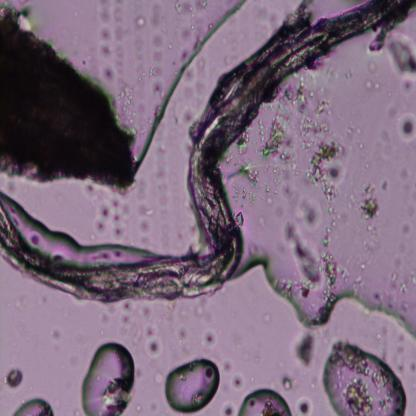Air bubble: (250, 246, 416, 340), (322, 336, 408, 416), (80, 337, 136, 415), (156, 353, 222, 414), (235, 384, 293, 413), (8, 398, 60, 416), (6, 366, 25, 391)
Background material: (0, 0, 137, 192), (260, 82, 310, 158), (283, 222, 324, 286), (310, 140, 345, 206), (87, 196, 131, 242), (92, 25, 120, 85), (175, 0, 203, 55), (258, 160, 290, 194), (134, 199, 156, 240), (293, 333, 316, 372), (327, 254, 344, 306), (112, 293, 136, 328), (225, 159, 260, 182), (297, 195, 322, 227), (321, 201, 338, 247), (144, 321, 162, 361), (397, 109, 416, 145), (360, 56, 379, 88), (152, 37, 166, 79), (362, 195, 380, 222), (202, 325, 218, 352), (219, 397, 238, 416), (293, 395, 314, 411), (174, 326, 192, 344), (279, 374, 294, 392), (231, 373, 245, 391), (135, 16, 147, 32), (227, 186, 241, 197), (379, 183, 392, 194)
Cellulose filter fibre: (2, 1, 416, 300), (387, 34, 416, 77)
